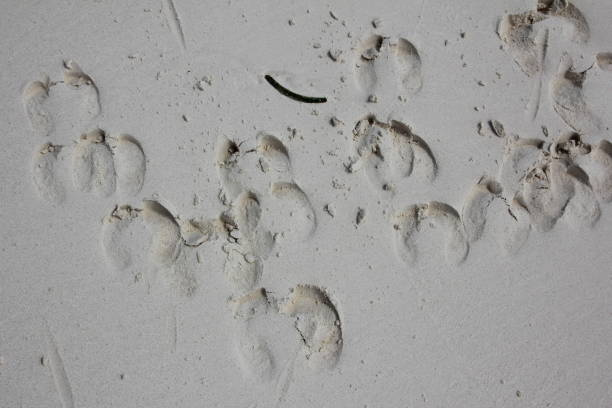animal_footprint: (462, 132, 611, 254), (230, 284, 342, 388), (101, 200, 222, 295), (497, 0, 589, 119), (216, 132, 316, 241), (31, 129, 145, 203), (229, 288, 298, 401), (519, 134, 599, 231), (497, 0, 589, 76), (349, 115, 436, 195), (22, 60, 100, 136), (279, 284, 342, 370), (461, 176, 530, 254), (392, 201, 468, 265), (354, 35, 422, 98), (549, 54, 601, 133), (519, 158, 572, 231), (497, 11, 544, 76), (497, 135, 543, 199), (72, 129, 115, 196), (461, 177, 501, 242), (491, 198, 530, 255), (537, 0, 589, 42), (63, 60, 100, 117), (578, 140, 611, 202), (31, 143, 65, 203), (113, 134, 145, 196), (22, 77, 53, 135), (595, 52, 611, 70)
